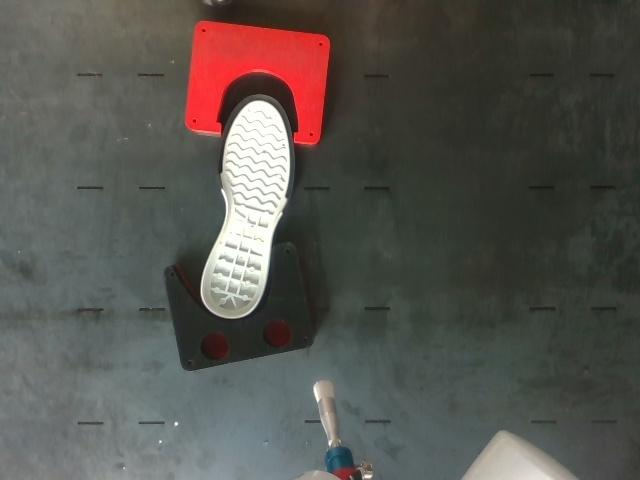shoes: (202, 95, 295, 317)
